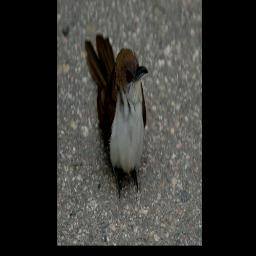Cuckoo: (85, 32, 149, 201)
